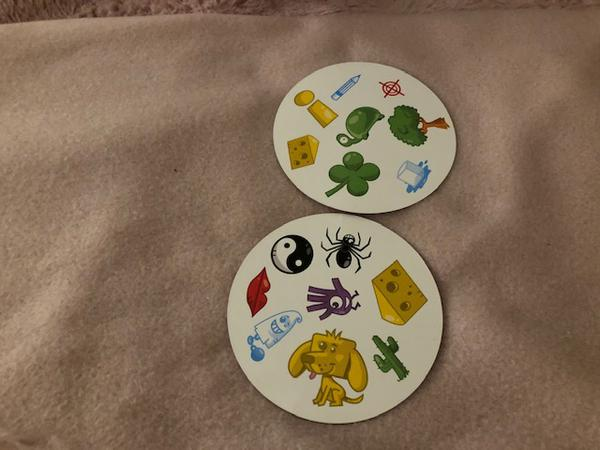araignee: (317, 226, 375, 274)
arbre: (384, 102, 451, 152)
bouche: (241, 267, 273, 318)
cactus: (366, 328, 412, 385)
chien: (287, 330, 368, 405)
cible: (375, 78, 405, 101)
crayon: (326, 73, 363, 104)
dooble: (301, 276, 362, 323)
fantome: (244, 305, 307, 367)
fromage: (364, 258, 432, 331), (285, 129, 319, 170)
point_exclamation: (289, 90, 338, 131)
tortue: (331, 102, 391, 151)
ying_yang: (266, 232, 315, 277)
